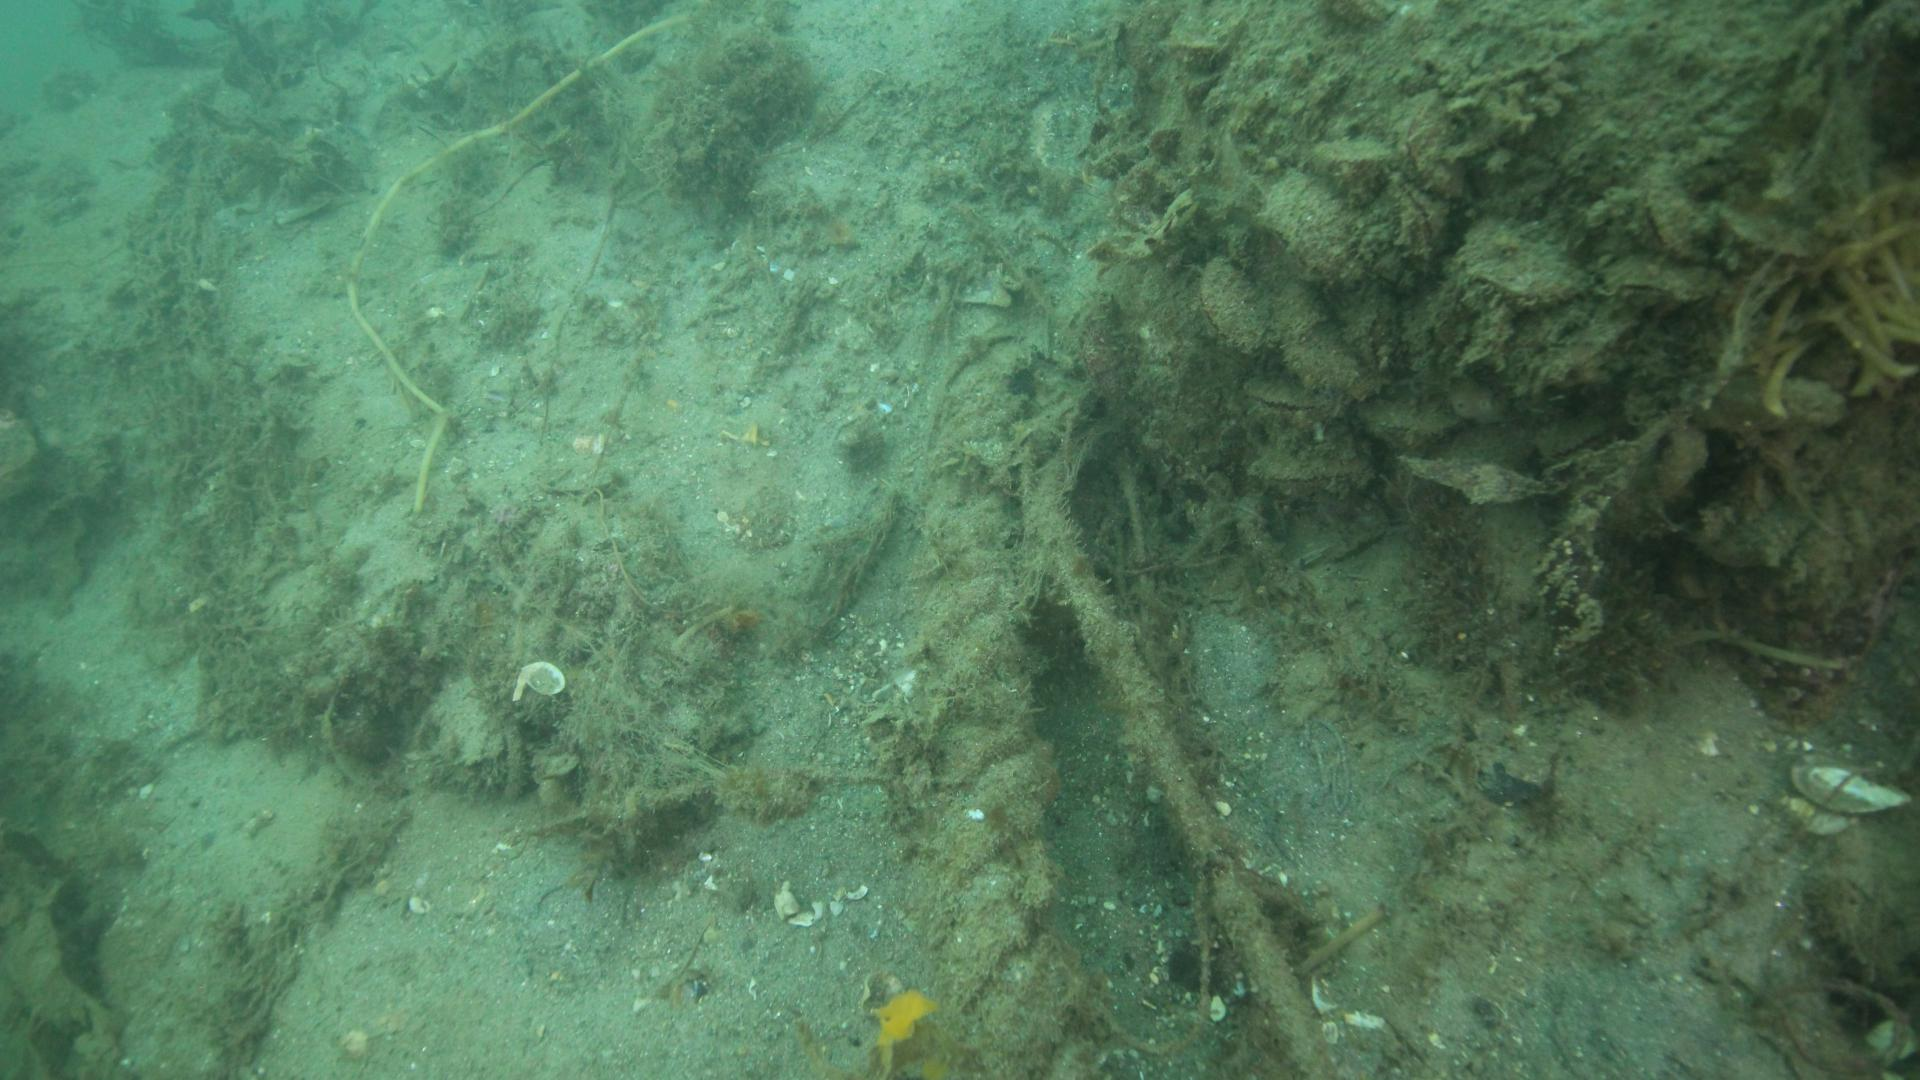rope: (916, 314, 1098, 1080)
